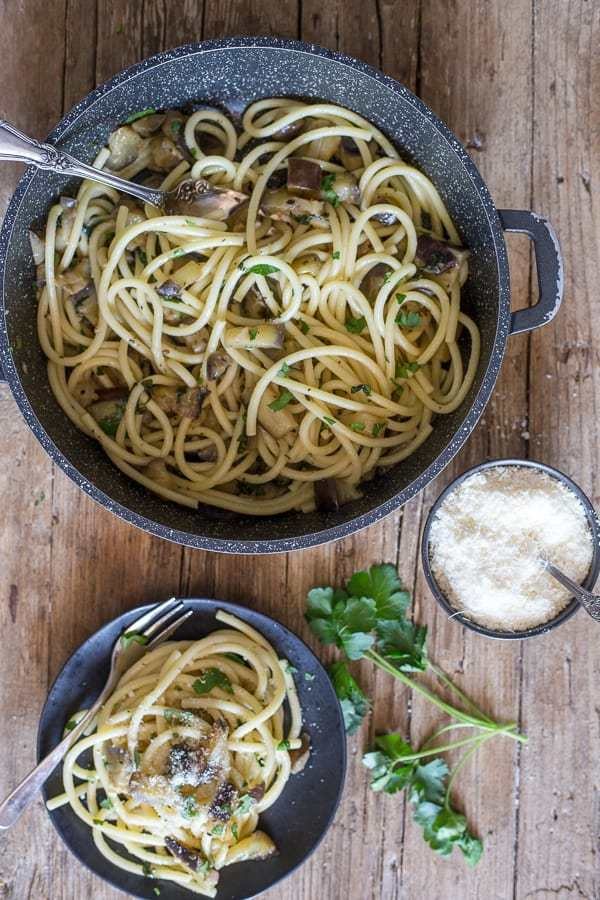plain rice: (472, 490, 550, 620)
plain spaghetti: (107, 207, 431, 449), (130, 683, 254, 855)
